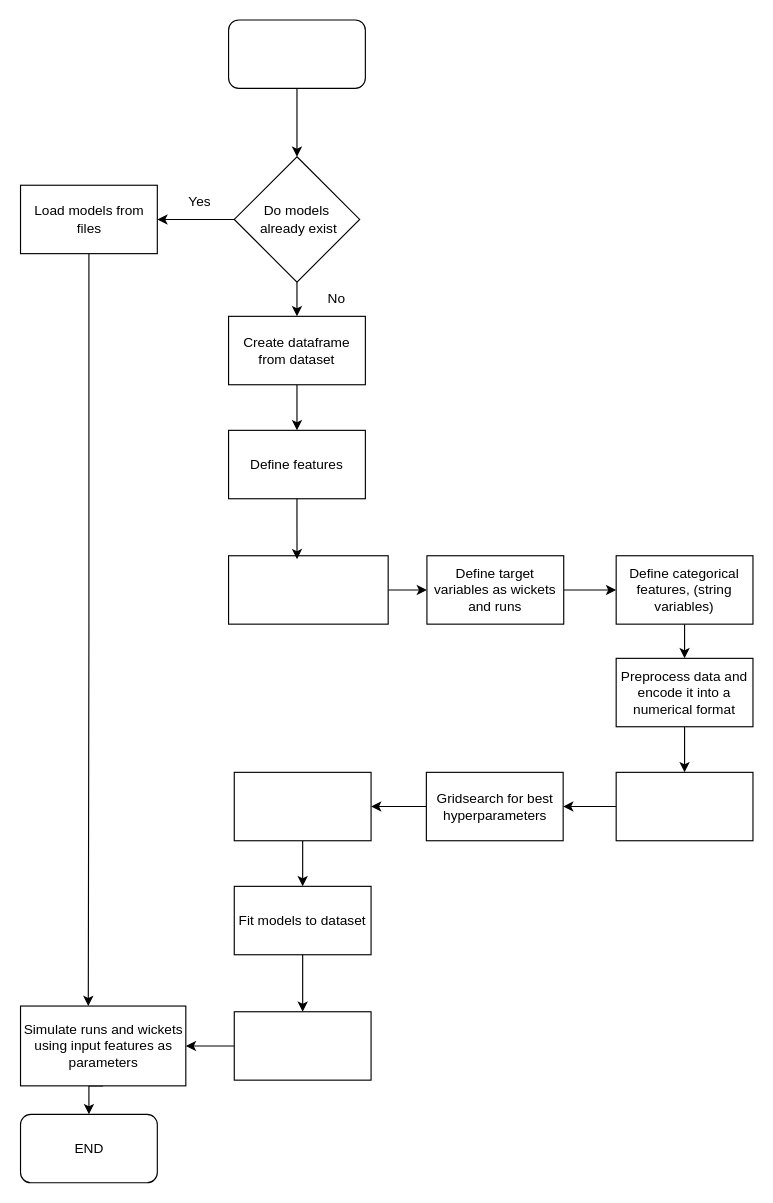
Image size: 773x1203. Some labels were removed from this diagram. Here are the shapes that lost their labels. From the top down, the centre of each, then its label:
At (x=296, y=53): "START".
At (x=307, y=589): "Calculate features from dataset and merge them into dataframe".
At (x=302, y=806): "Define model with best hyperparameters".
At (x=684, y=806): "Define models - regressors for runs and wickets".
At (x=302, y=1045): "Store models as files".
